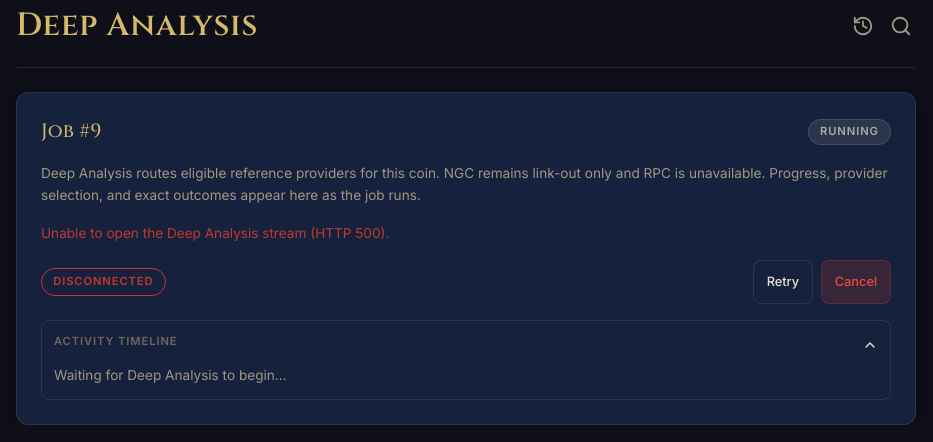
Test: DeepAnalysisPage › never shows "Reconnecting…" when nothing is scheduled, and the Retry control actually recovers the stream (T085/B6)
Click the button with aria-label "Retry Deep Analysis connection": (783, 282) [753, 260, 813, 304]
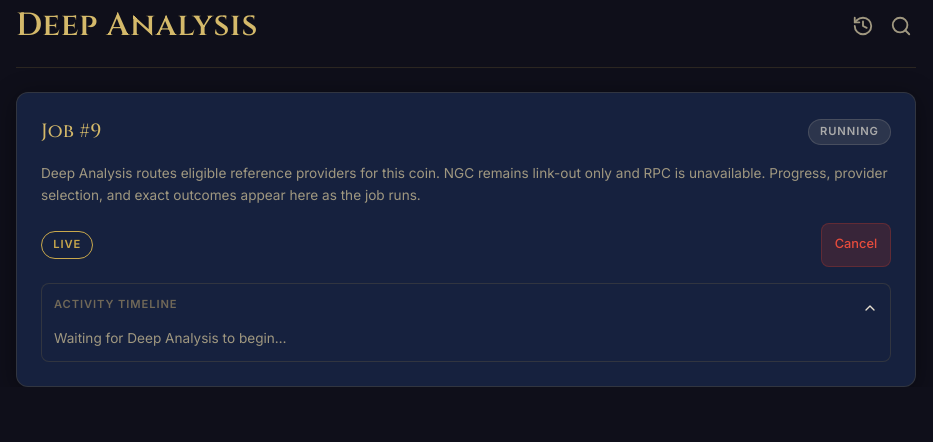
Check: the text "Live" is shown, box [41, 231, 93, 258]
